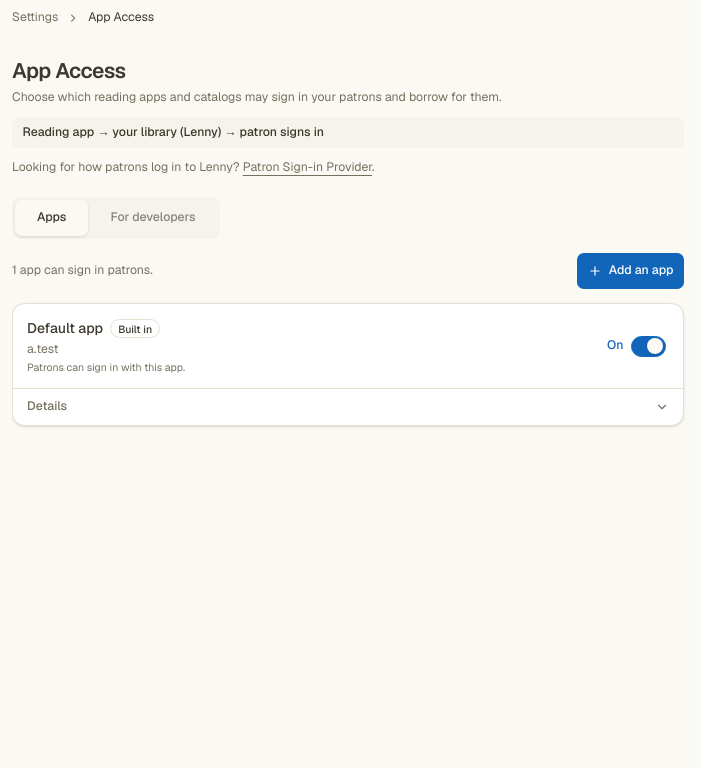
Test case: AppAccessPage › keeps details collapsed until asked and shows plain-words permissions inside
This screenshot has width=701, height=768.
Expected: the heading "Default app" is shown, [27,318,103,339]
Expected: the text "Borrow and return books" is not shown
Click the button "Details": (47, 406) [24,389,672,425]
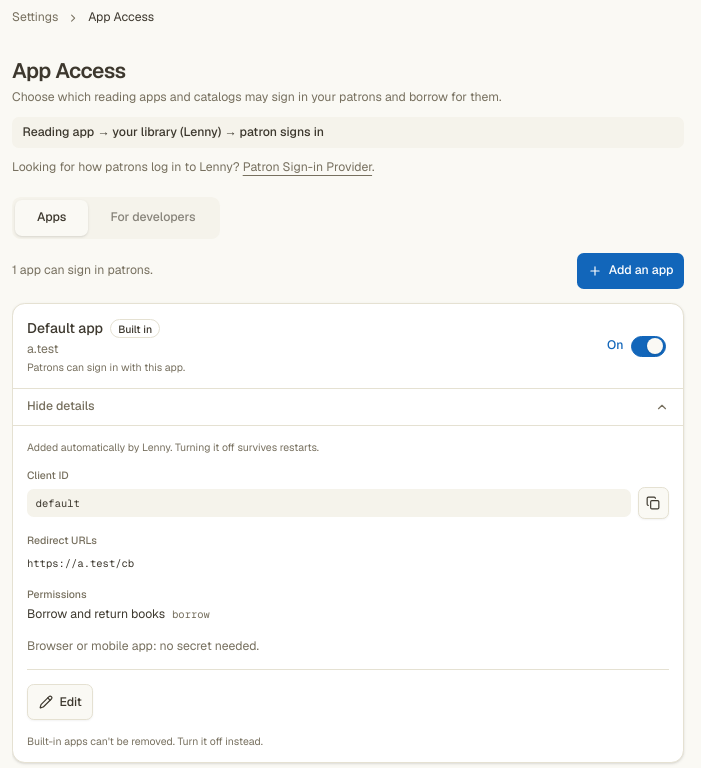
Expected: the button "Hide details" is expanded, [24,389,672,425]
Expected: the list item "Borrow and return books" is shown, [27,606,165,622]
Expected: the text "Browser or mobile app: no secret needed." is shown, [27,638,259,654]
